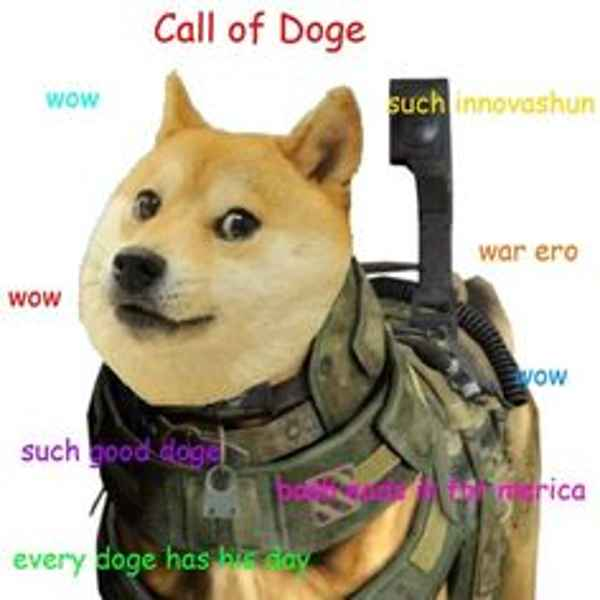doge: (68, 96, 347, 403)
